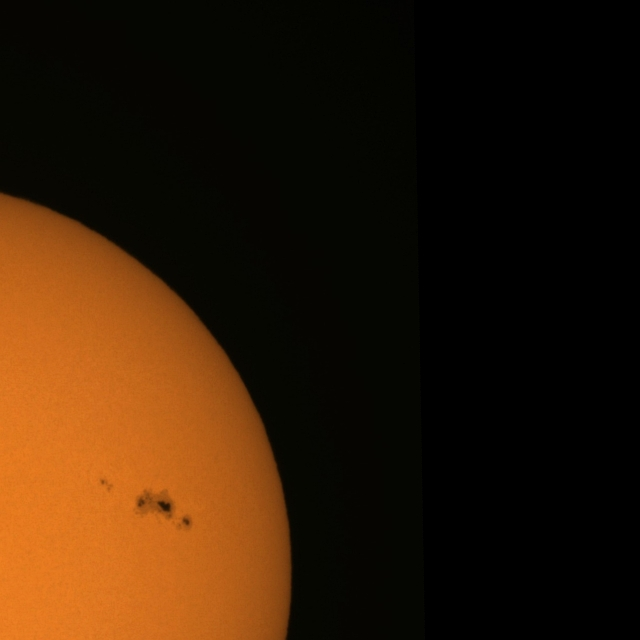sunspot: (134, 486, 201, 528), (98, 476, 114, 494)
